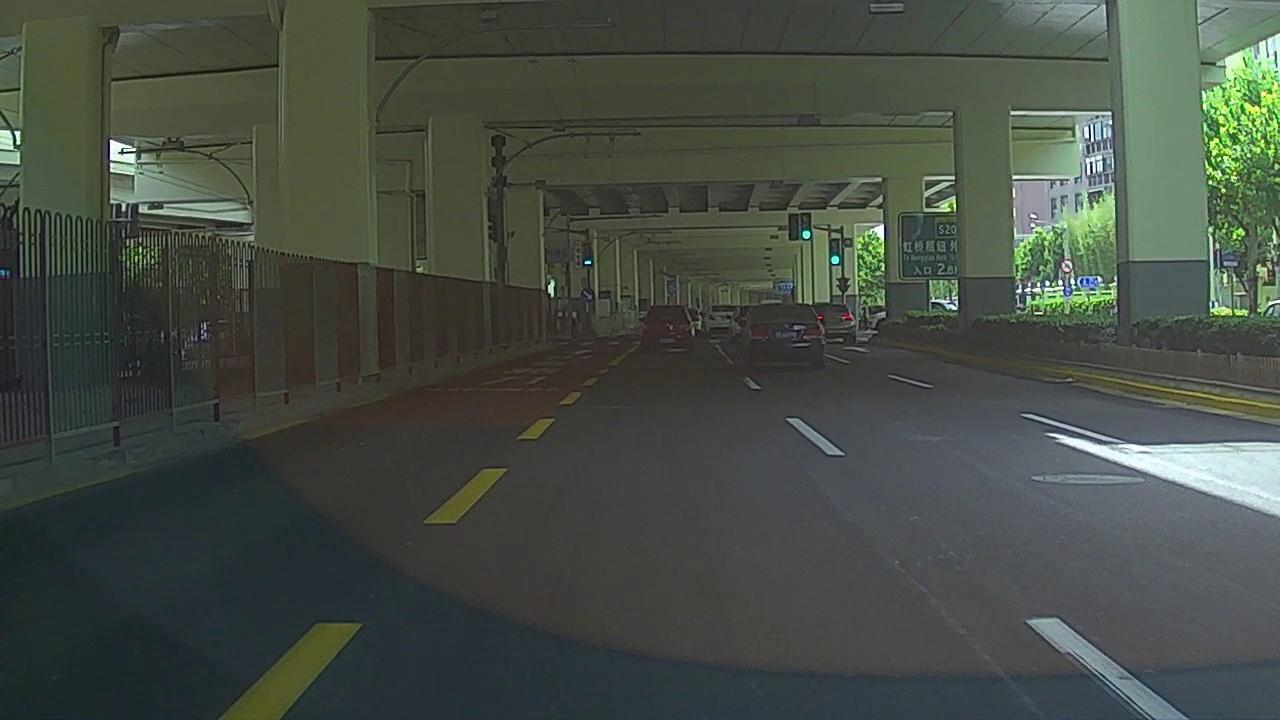traffic_light: (800, 212, 812, 241), (828, 239, 840, 265), (788, 214, 799, 241)
